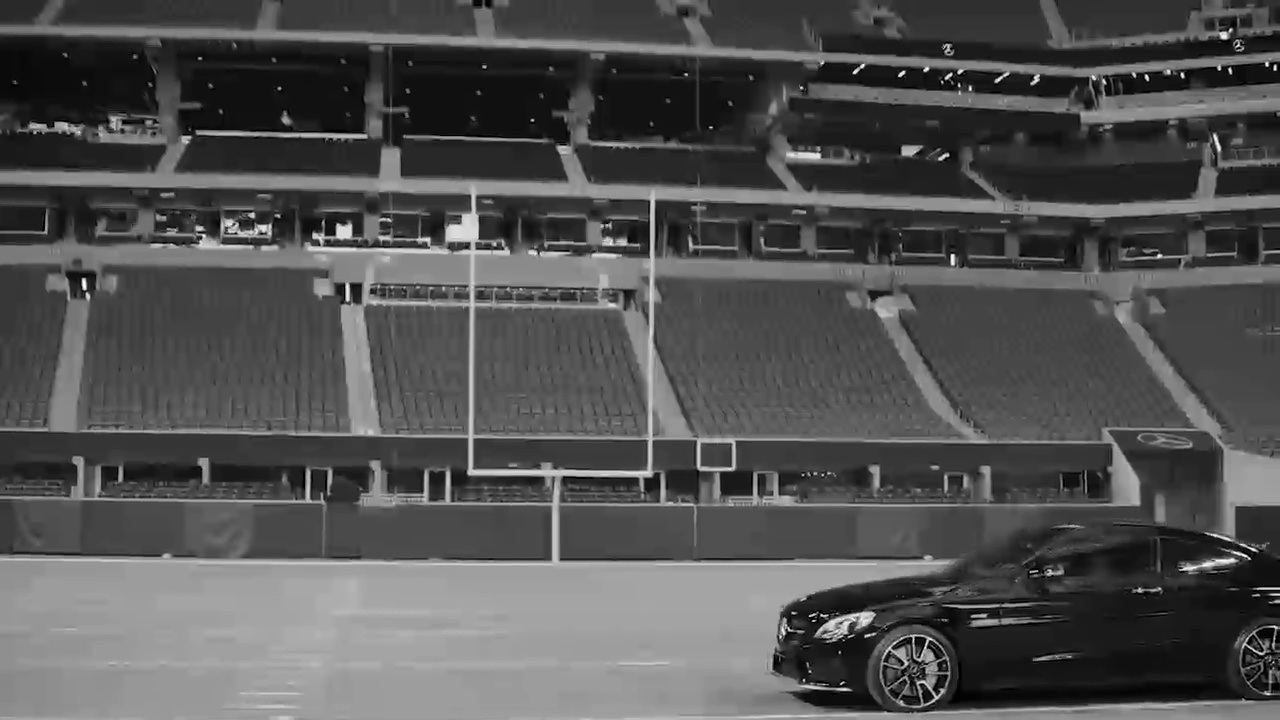car: (765, 520, 1280, 706)
